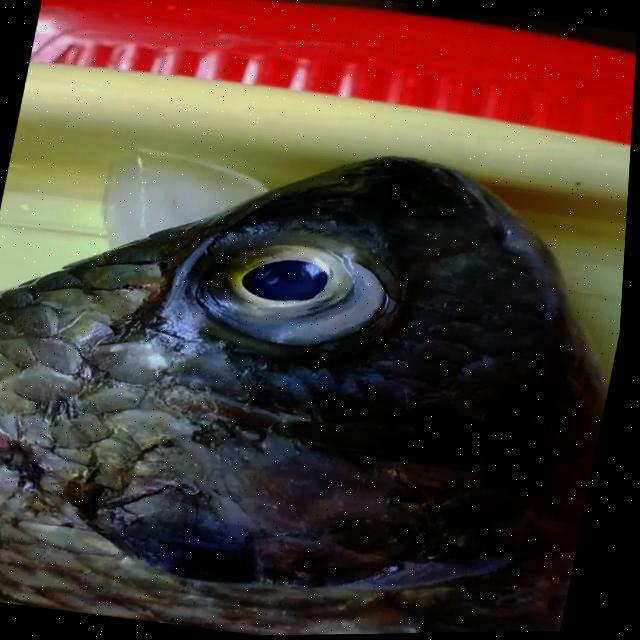Fresh: (157, 189, 433, 381)
